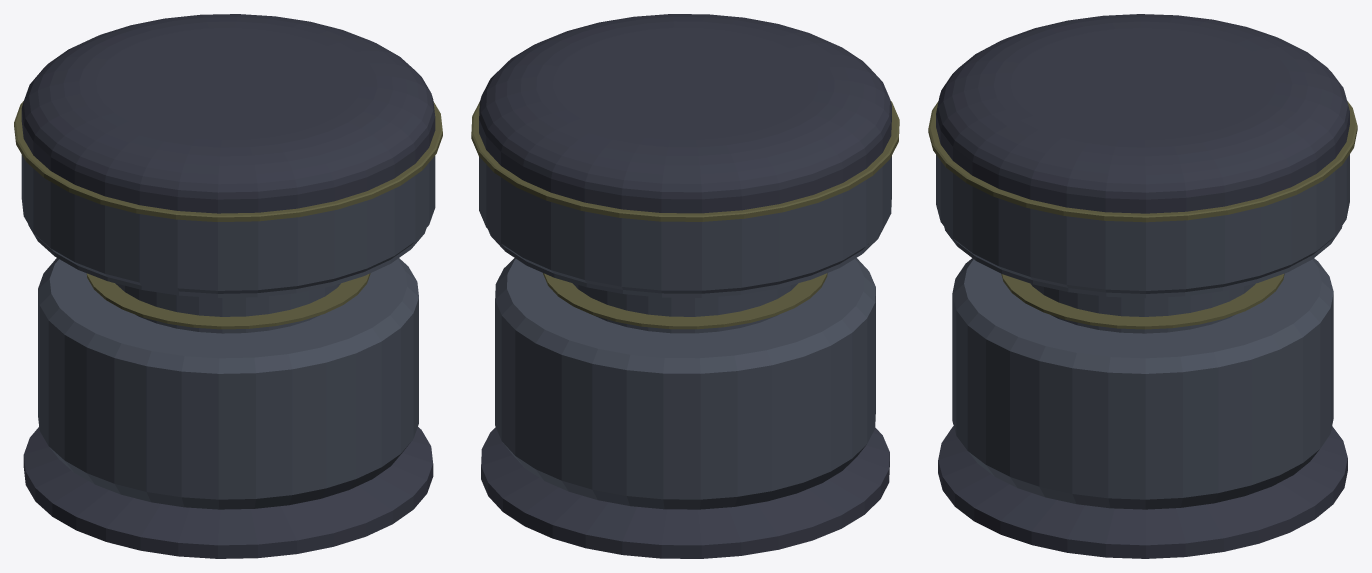
The model's file is 远处巨型打桩机_001.fbx.
3 renders of one model, left to right at view 1: azimuth 30°, elevation 25°; view 2: azimuth 150°, elevation 25°; view 3: azimuth 270°, elevation 25°, orthographic.
Parts seen in each view (by area): view 1: 远处巨型打桩机.001; view 2: 远处巨型打桩机.001; view 3: 远处巨型打桩机.001.
Boxes of the visible parts, left/top/right/bottom form: 远处巨型打桩机.001: left=14, top=14, right=442, bottom=558; 远处巨型打桩机.001: left=471, top=14, right=899, bottom=558; 远处巨型打桩机.001: left=928, top=14, right=1357, bottom=558.
Size of the model in its own units: 2.67 by 2.66 by 2.67.
